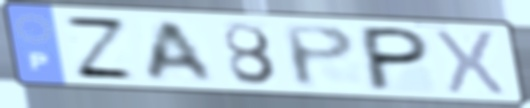8: (220, 20, 280, 87)
A: (143, 18, 219, 83)
P: (278, 23, 359, 91), (362, 24, 434, 93)
X: (432, 27, 509, 99)
Z: (60, 14, 141, 83)
